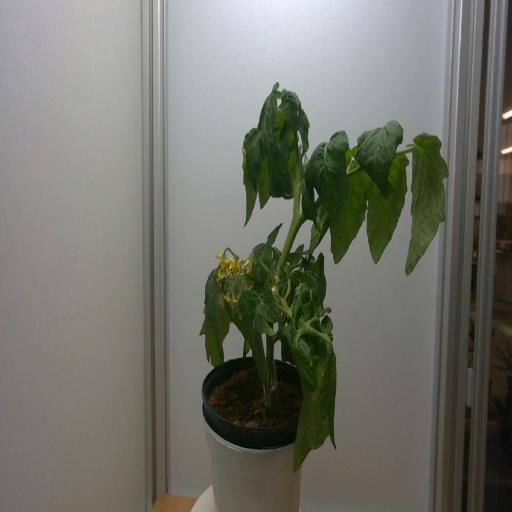Tomato-Leaves-Cupboard-: (286, 333, 338, 474), (402, 135, 452, 279), (365, 145, 409, 267), (328, 146, 373, 262), (353, 115, 407, 197), (304, 127, 352, 213), (239, 288, 271, 403), (198, 270, 230, 370), (268, 141, 295, 202), (243, 126, 258, 227), (258, 90, 280, 157), (303, 251, 329, 307), (305, 200, 328, 263), (291, 338, 318, 391), (244, 128, 264, 188), (294, 100, 314, 150), (291, 280, 314, 322), (256, 286, 280, 326), (299, 178, 317, 226), (256, 154, 272, 207), (262, 220, 285, 256), (247, 250, 272, 283), (283, 91, 298, 128), (284, 246, 300, 266)
